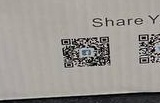2d: (60, 35, 111, 69)
